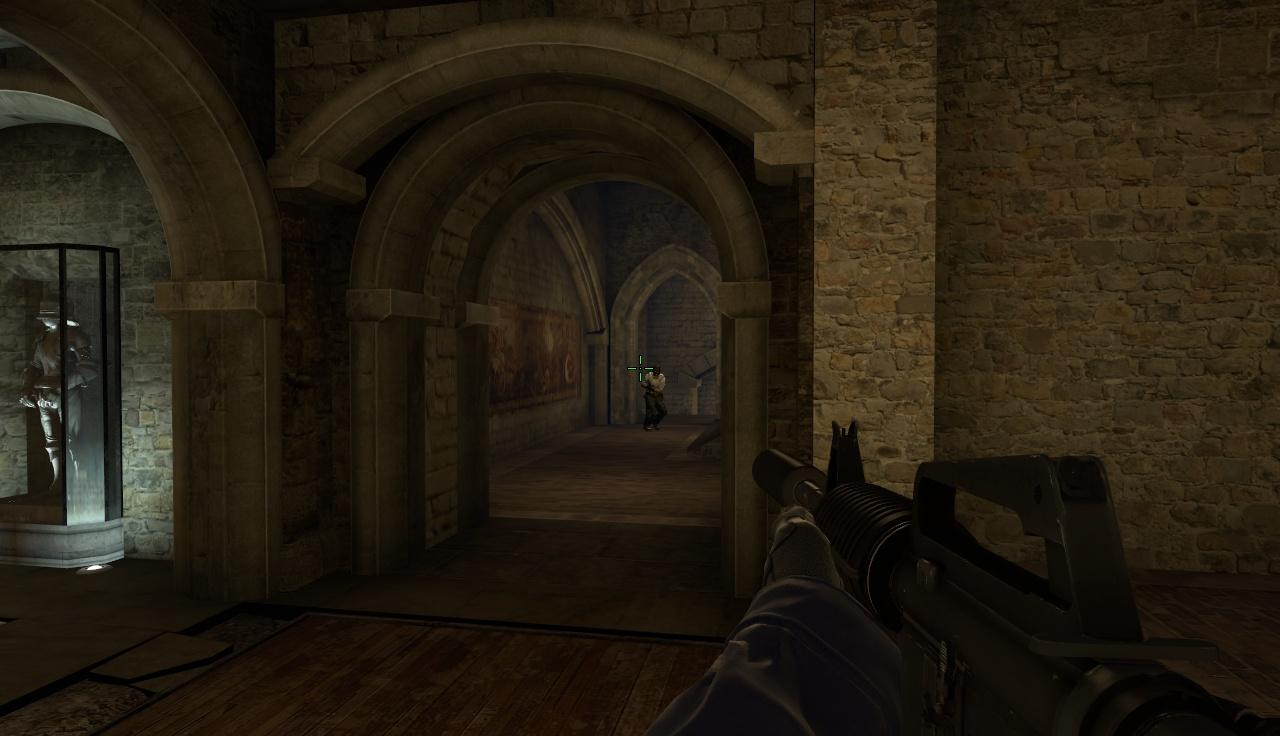rifle: (744, 417, 1280, 736)
tt: (644, 365, 666, 431)
tthead: (652, 366, 660, 376)
